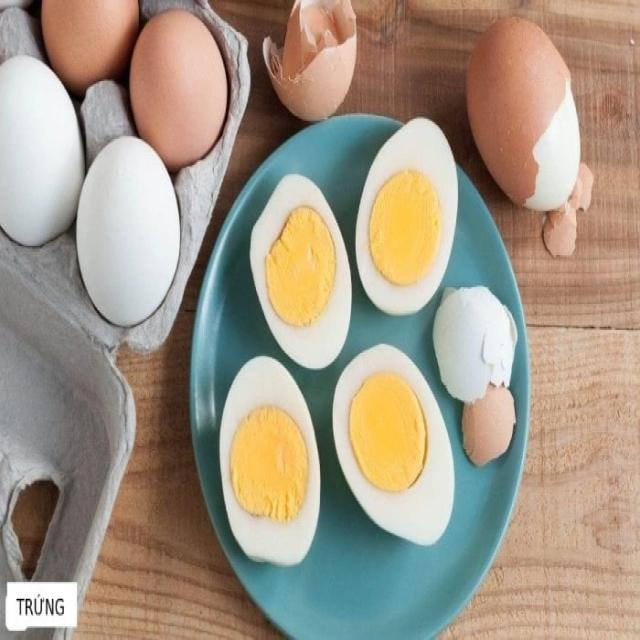trung luoc: (333, 345, 453, 545), (220, 359, 319, 565), (356, 118, 456, 313), (250, 176, 351, 368), (525, 81, 580, 209)
